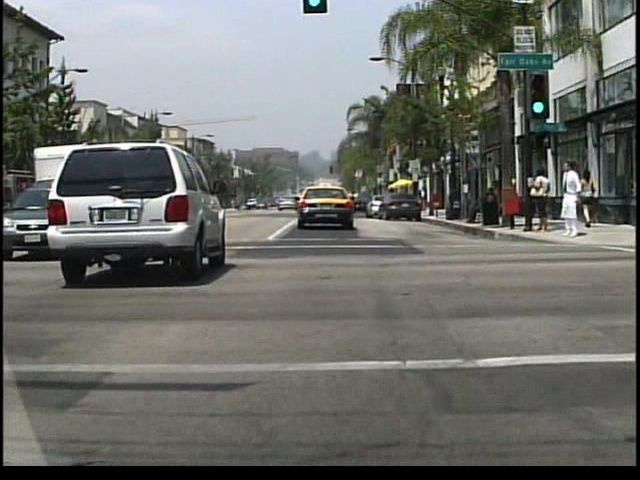person: (558, 159, 581, 238), (530, 164, 551, 235), (578, 168, 599, 231), (462, 189, 486, 226), (485, 179, 497, 222), (419, 185, 429, 213)
